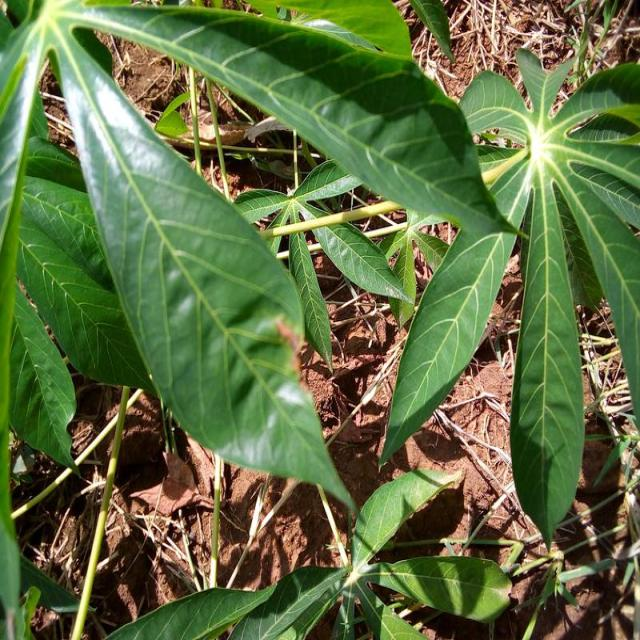cassava leaf: (45, 17, 361, 517), (380, 46, 639, 548)
